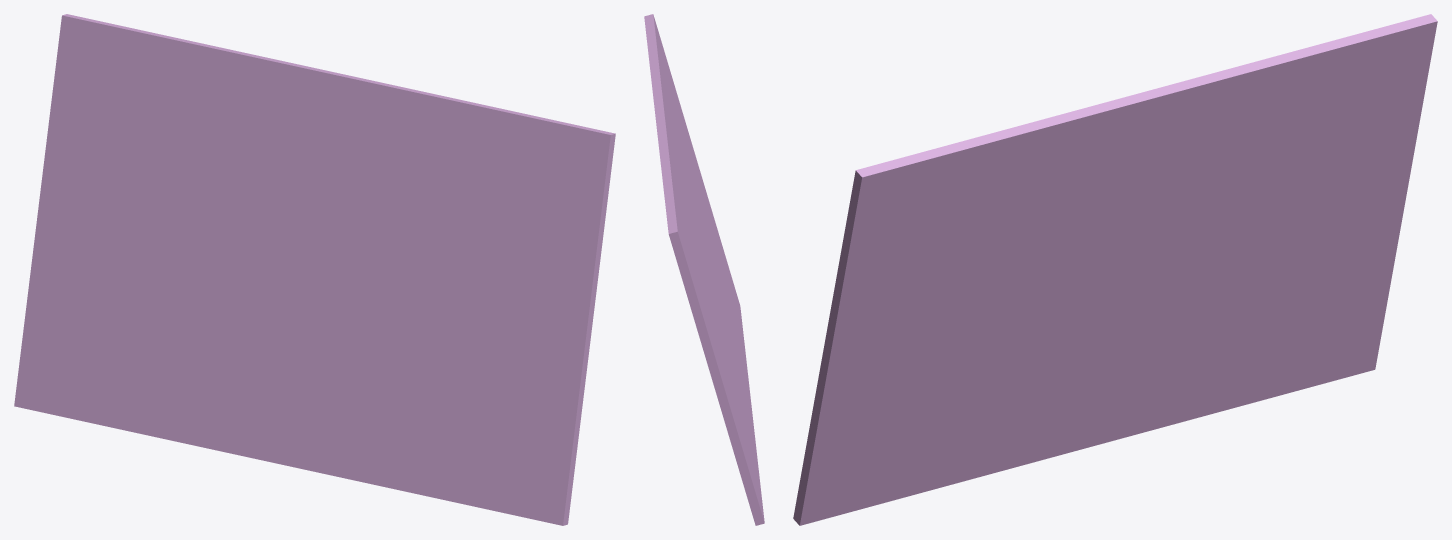
Rendered from laptopscreen.glb.
The picture shows the model from 3 angles, left to right: view 1: azimuth 30°, elevation 25°; view 2: azimuth 150°, elevation 25°; view 3: azimuth 270°, elevation 25°; orthographic projection. The views are drawn at different scales.
Parts seen in each view (by area): view 1: Cube.004; view 2: Cube.004; view 3: Cube.004.
Boxes of the visible parts, x1,y1,x2,y2 form: Cube.004: (14,14,615,525); Cube.004: (644,14,764,525); Cube.004: (793,14,1437,525).
Size of the model in its own units: 0.667 by 0.6054 by 0.901.
